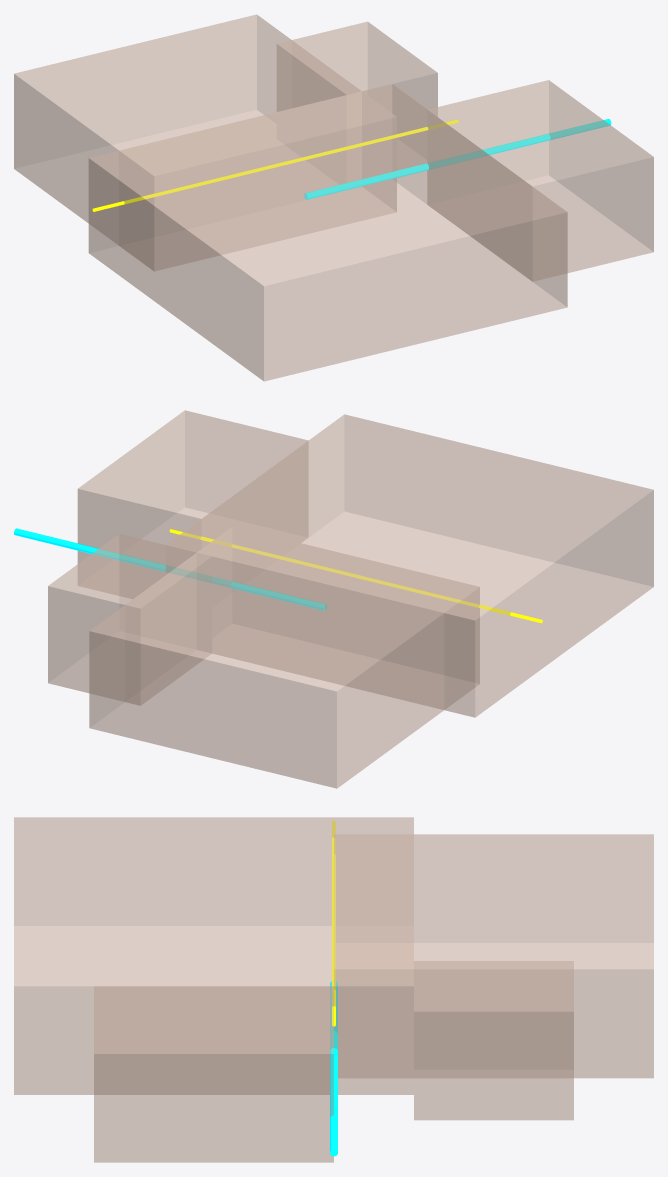
File: omnibuild.glb
The picture shows the model from 3 angles, top to bottom: view 1: azimuth 30°, elevation 25°; view 2: azimuth 150°, elevation 25°; view 3: azimuth 270°, elevation 25°; orthographic projection. The views are drawn at different scales.
Visible parts, largest first — view 1: BIM_Room_Hall, BIM_Room_Bedroom, BIM_Room_Kitchen, BIM_Room_Bathroom, Plumbing_System_01, Electrical_System_01; view 2: BIM_Room_Hall, BIM_Room_Bedroom, BIM_Room_Kitchen, BIM_Room_Bathroom, Plumbing_System_01, Electrical_System_01; view 3: BIM_Room_Hall, BIM_Room_Bedroom, BIM_Room_Kitchen, BIM_Room_Bathroom, Plumbing_System_01, Electrical_System_01.
Boxes of the visible parts, box(x1,y1,x2,y2) form: BIM_Room_Hall: box(88, 84, 567, 381); BIM_Room_Bedroom: box(14, 14, 396, 271); BIM_Room_Kitchen: box(427, 80, 653, 281); BIM_Room_Bathroom: box(277, 21, 437, 169); Plumbing_System_01: box(304, 119, 611, 199); Electrical_System_01: box(92, 119, 458, 211); BIM_Room_Hall: box(166, 414, 653, 717); BIM_Room_Bedroom: box(89, 526, 479, 788); BIM_Room_Kitchen: box(77, 410, 308, 598); BIM_Room_Bathroom: box(48, 534, 211, 705); Plumbing_System_01: box(14, 528, 326, 610); Electrical_System_01: box(169, 529, 542, 623); BIM_Room_Hall: box(14, 817, 413, 1094); BIM_Room_Bedroom: box(334, 834, 653, 1078); BIM_Room_Kitchen: box(94, 986, 333, 1162); BIM_Room_Bathroom: box(414, 961, 573, 1120); Plumbing_System_01: box(330, 981, 337, 1156); Electrical_System_01: box(332, 821, 335, 1026).
Bounding box in the file's own units: 17 × 3 × 16.
